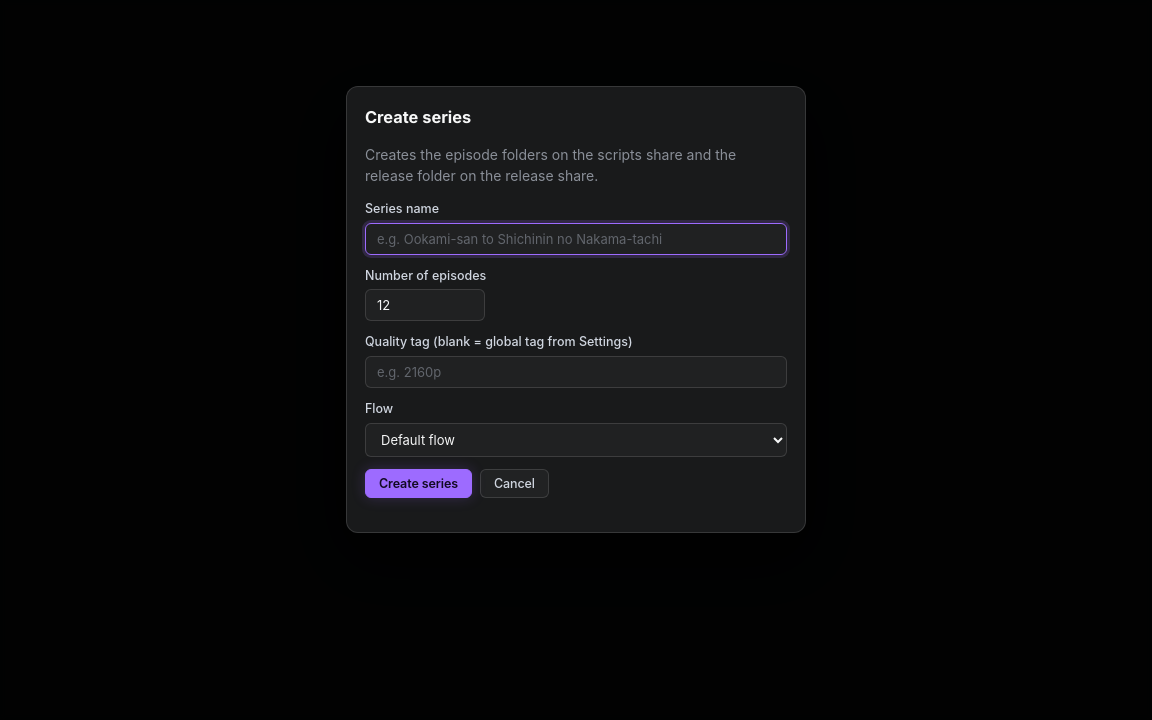
Test: CreateSeriesDialog › submits name, episodes, tag and flow, then shows the summary
Step 1. Type "New Show" into the field labelled "Series name" → coordinates (576, 239), box [365,223,787,255]
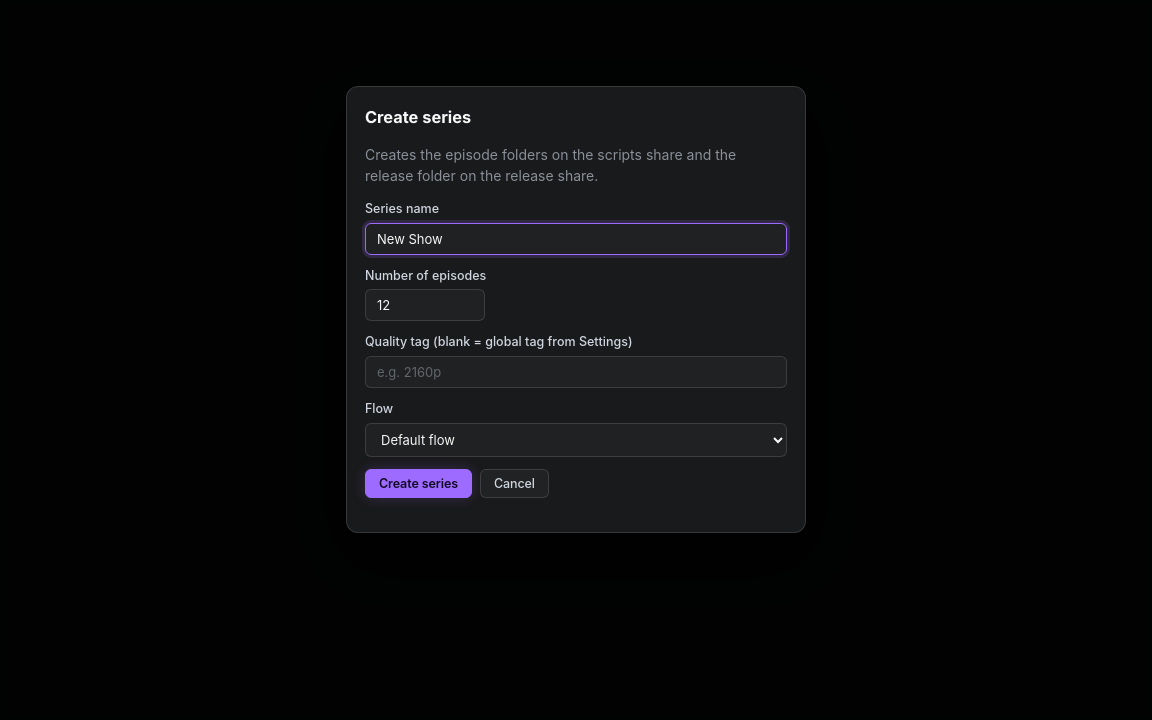
Step 2. Replace the text in the number field labelled "Number of episodes" with "2" → coordinates (425, 306), box [365,290,485,322]
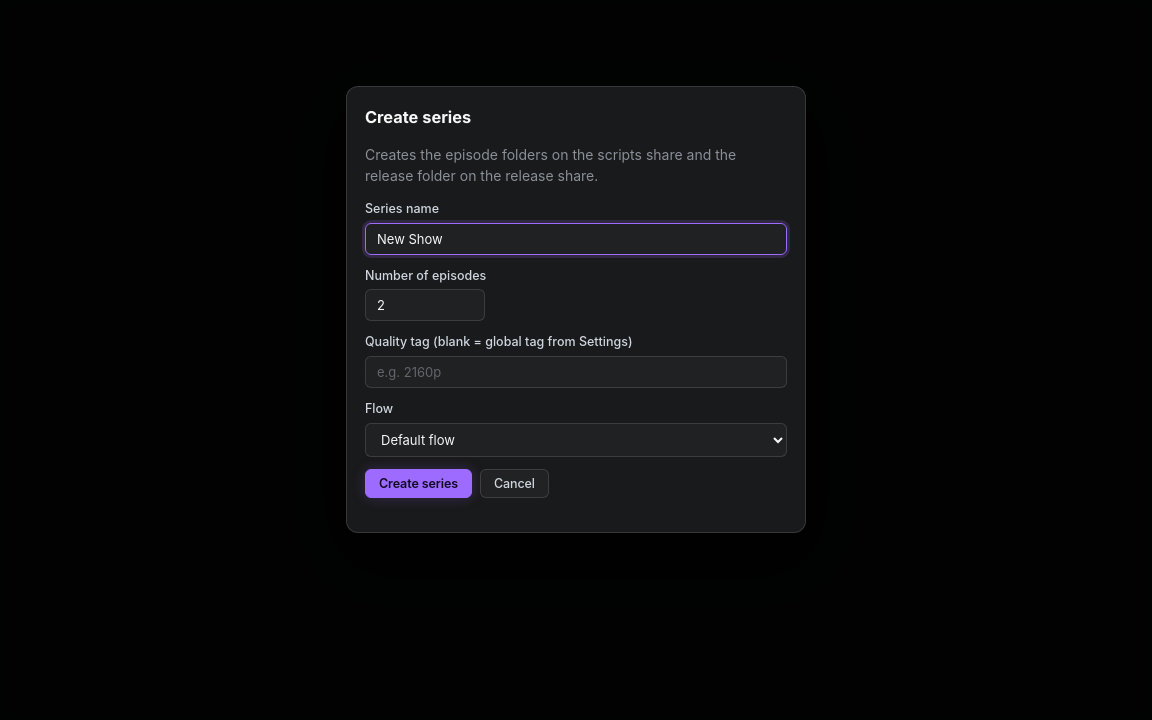
Step 3. Type "2160p" into the field labelled "Quality tag (blank = global tag from Settings)" → coordinates (576, 372), box [365,356,787,388]
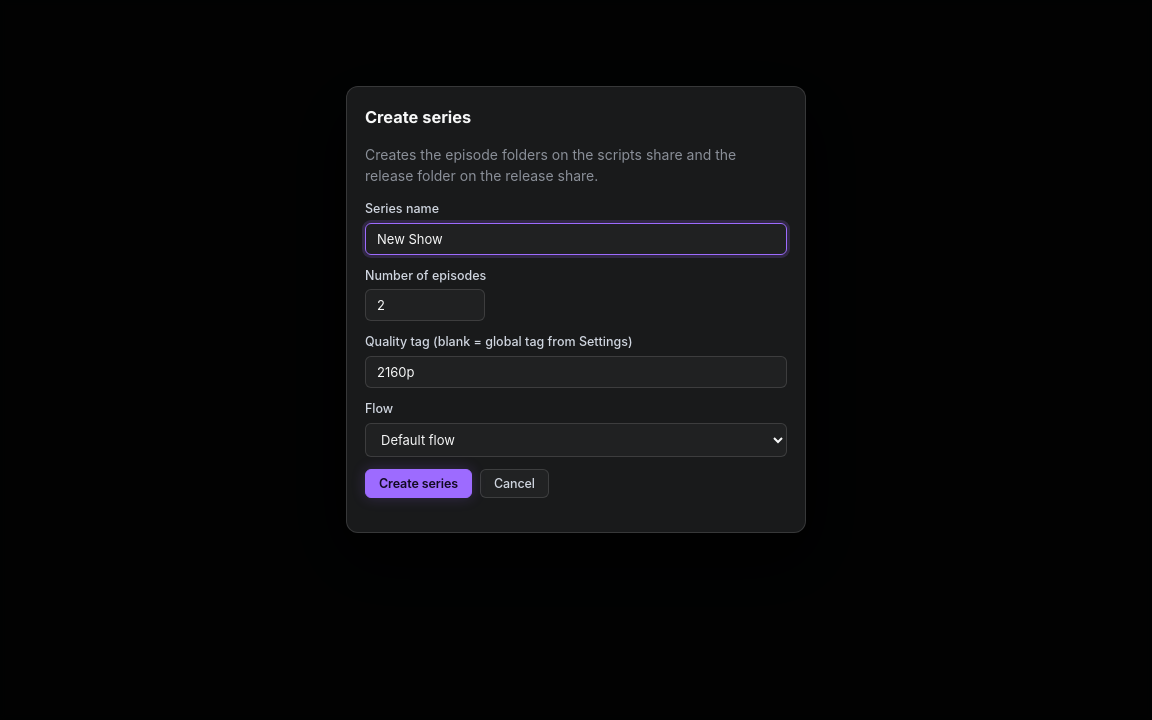
Step 4. Click the button "Create series" → coordinates (418, 484), box [365,469,472,498]
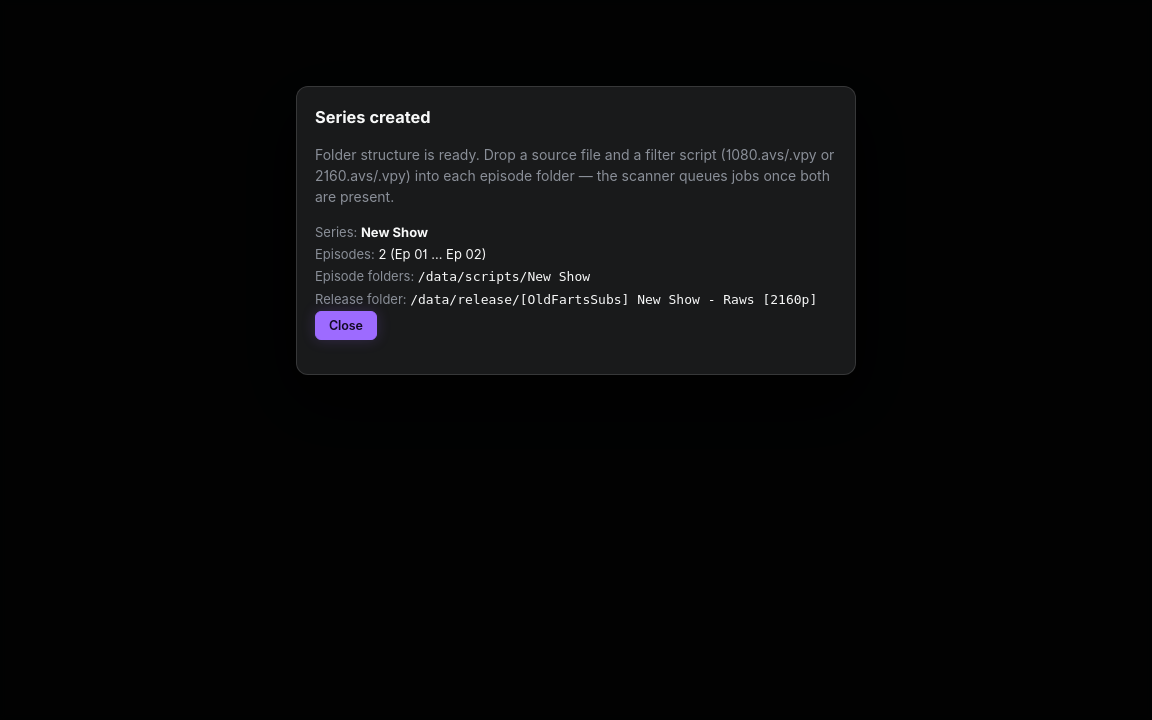
Result: the heading "Series created" is shown at [315,107,431,127]
Result: the text "Episodes: 2 (Ep 01 … Ep 02)" is shown at [315,246,486,262]
Result: the text "New Show" is shown at [361,224,428,240]
